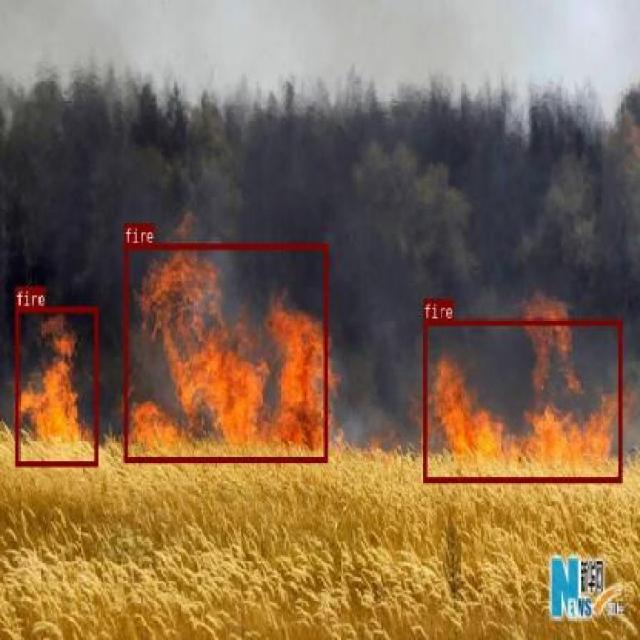Fire: (124, 243, 327, 462), (422, 318, 621, 482), (15, 306, 97, 465)
